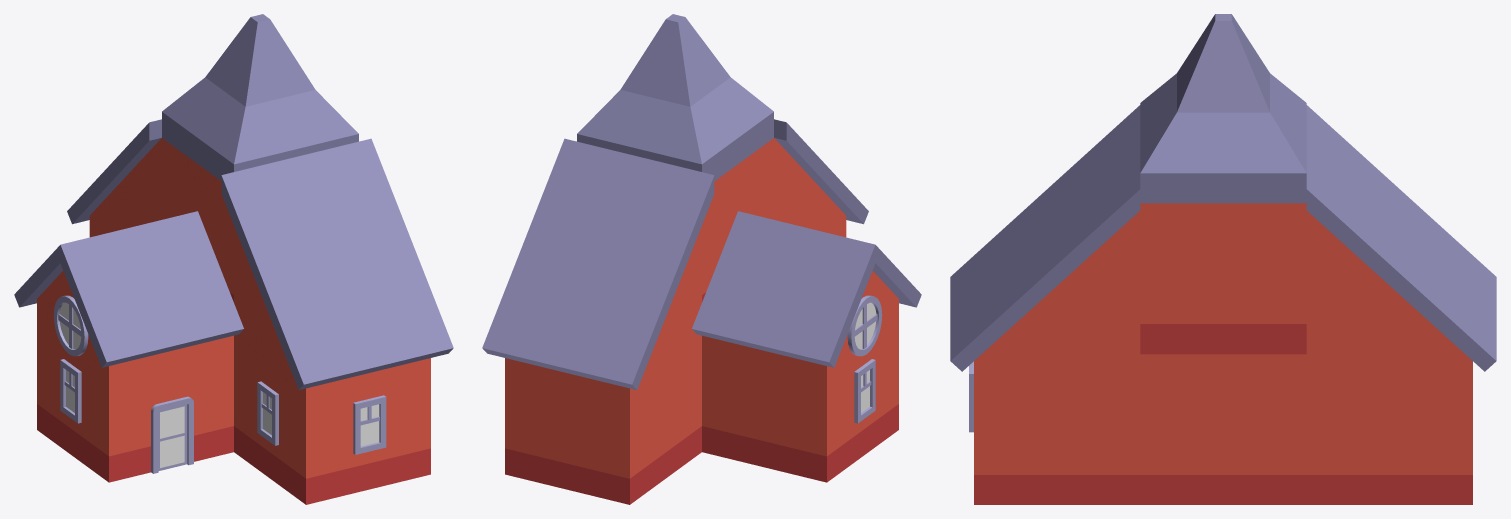
Rendered from building1.fbx.
3 renders of one model, left to right at view 1: azimuth 30°, elevation 25°; view 2: azimuth 150°, elevation 25°; view 3: azimuth 270°, elevation 25°, orthographic. The views are drawn at different scales.
Visible parts, largest first — view 1: mergedBlocks; view 2: mergedBlocks; view 3: mergedBlocks.
Part boxes in pixels (x1,y1,x2,y2): mergedBlocks: (14, 14, 453, 504); mergedBlocks: (482, 14, 921, 504); mergedBlocks: (950, 14, 1496, 504).
Size of the model in its own units: 22 by 30 by 32.83.
